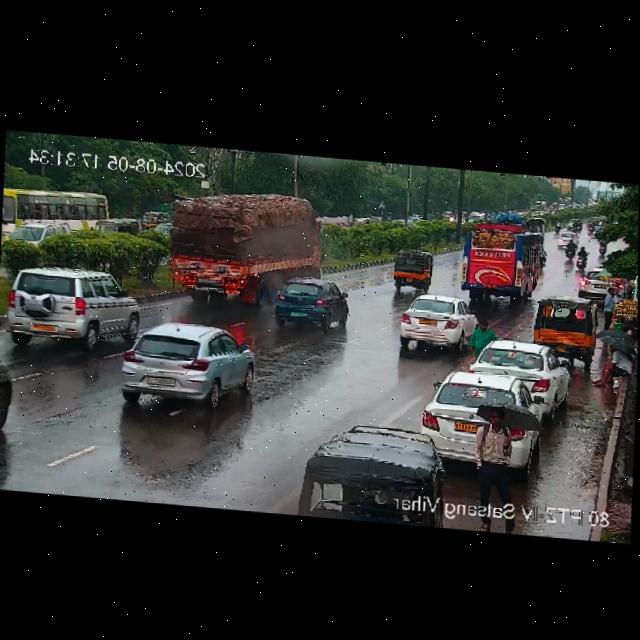bus: (451, 215, 541, 307), (1, 186, 107, 247)
car: (116, 318, 256, 417), (2, 257, 143, 351), (420, 369, 537, 478), (293, 411, 396, 523), (475, 337, 571, 402), (400, 288, 480, 351), (269, 274, 349, 333), (531, 295, 599, 361), (574, 265, 628, 301), (390, 250, 433, 291), (142, 209, 166, 233), (556, 231, 569, 249)
motorcycle: (577, 244, 587, 272), (564, 237, 575, 259), (598, 240, 606, 255), (572, 220, 580, 232), (555, 220, 559, 234)
person: (472, 402, 530, 464), (596, 343, 632, 392), (601, 286, 616, 328), (473, 317, 490, 351)
truck: (154, 181, 323, 316)
